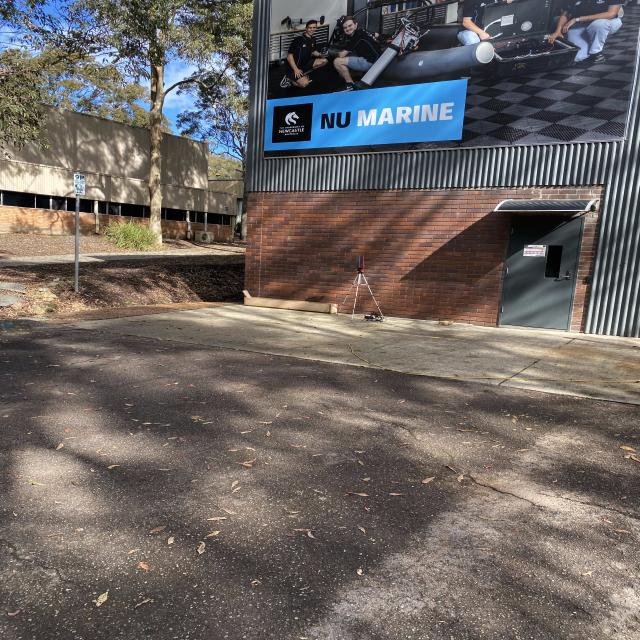matrix: (355, 254, 365, 268)
